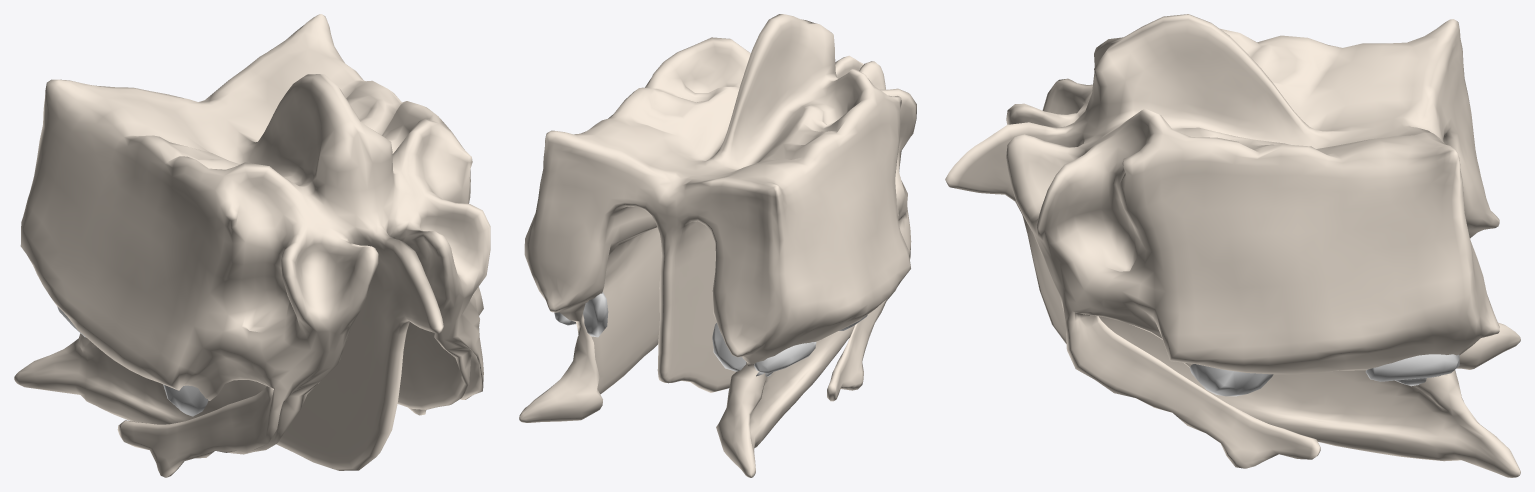
Rendered from ethmoid_cells_s120.glb.
3 renders of one model, left to right at view 1: azimuth 30°, elevation 25°; view 2: azimuth 150°, elevation 25°; view 3: azimuth 270°, elevation 25°, orthographic. The views are drawn at different scales.
Visible parts, largest first — view 1: Ethmoid Bone, Anterior cells of ethmoid bone.r; view 2: Ethmoid Bone, Posterior cells of ethmoid bone.r, Posterior cells of ethmoid bone.l; view 3: Ethmoid Bone, Posterior cells of ethmoid bone.l, Anterior cells of ethmoid bone.l.
Boxes of the visible parts, x1=… form: Ethmoid Bone: x1=14, y1=14, x2=490, y2=477; Anterior cells of ethmoid bone.r: x1=163, y1=384, x2=208, y2=416; Ethmoid Bone: x1=519, y1=14, x2=916, y2=477; Posterior cells of ethmoid bone.r: x1=712, y1=323, x2=816, y2=376; Posterior cells of ethmoid bone.l: x1=554, y1=292, x2=608, y2=337; Ethmoid Bone: x1=945, y1=14, x2=1520, y2=477; Posterior cells of ethmoid bone.l: x1=1365, y1=354, x2=1459, y2=386; Anterior cells of ethmoid bone.l: x1=1189, y1=364, x2=1273, y2=396.
Size of the model in its own units: 0.0343 by 0.0365 by 0.0474.
